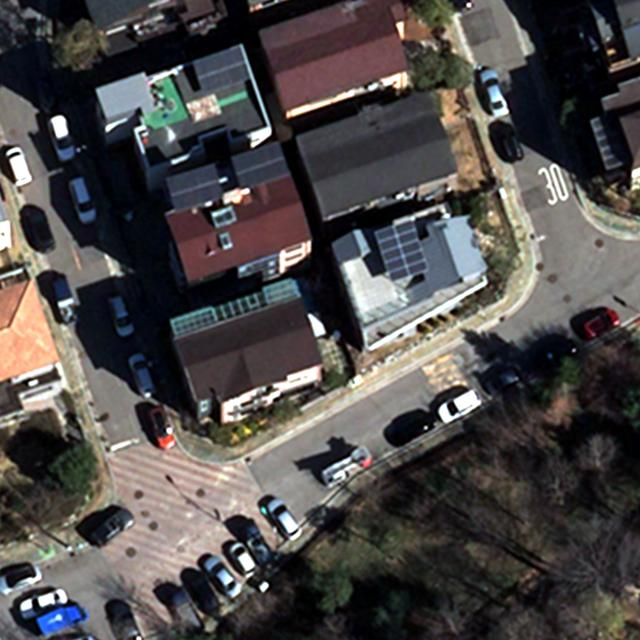panel: (374, 217, 430, 284), (163, 160, 226, 215), (228, 138, 293, 190), (191, 45, 255, 96)
